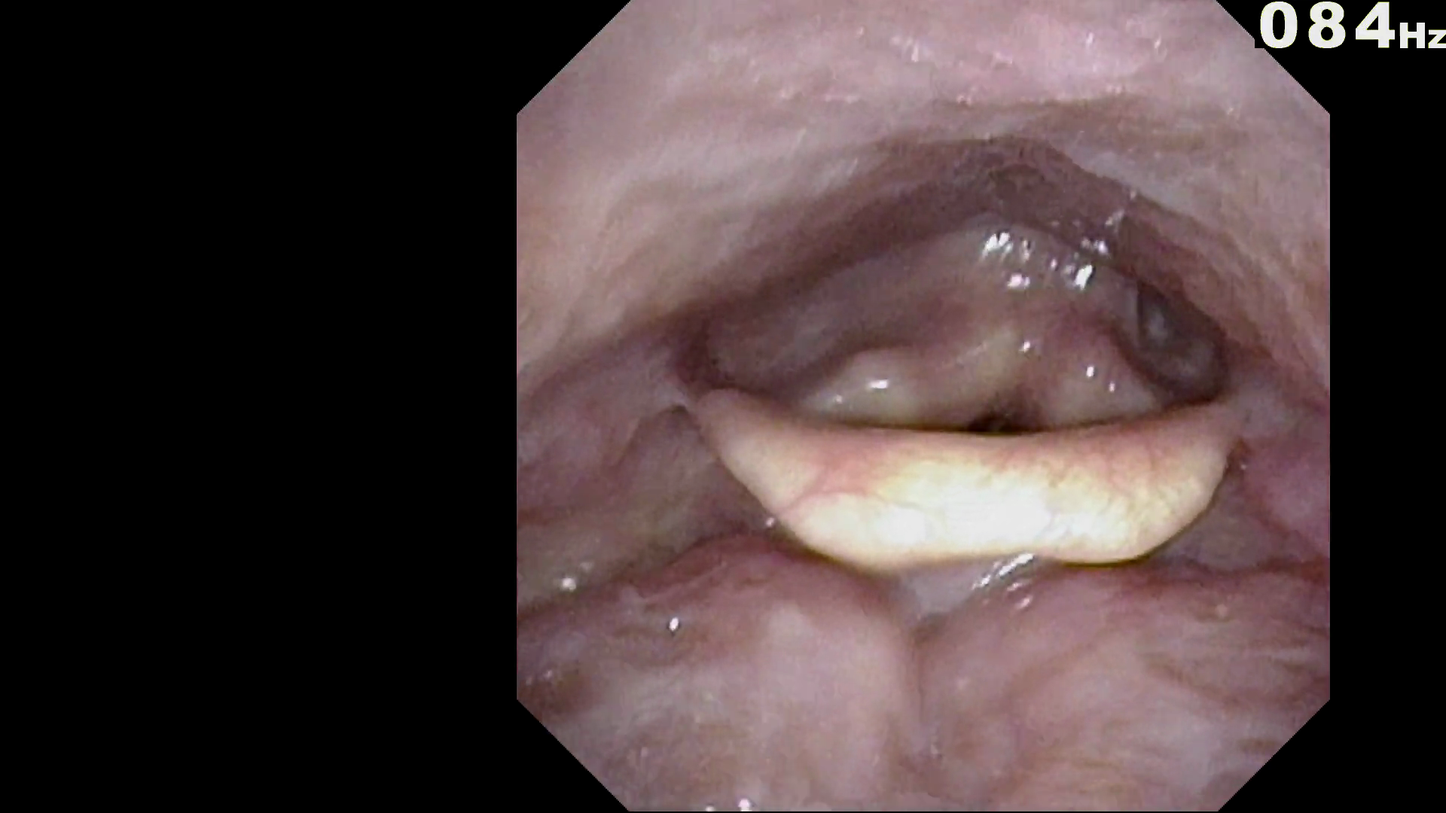epiglottis: (677, 329, 1274, 624)
trachea: (952, 377, 1037, 468)
